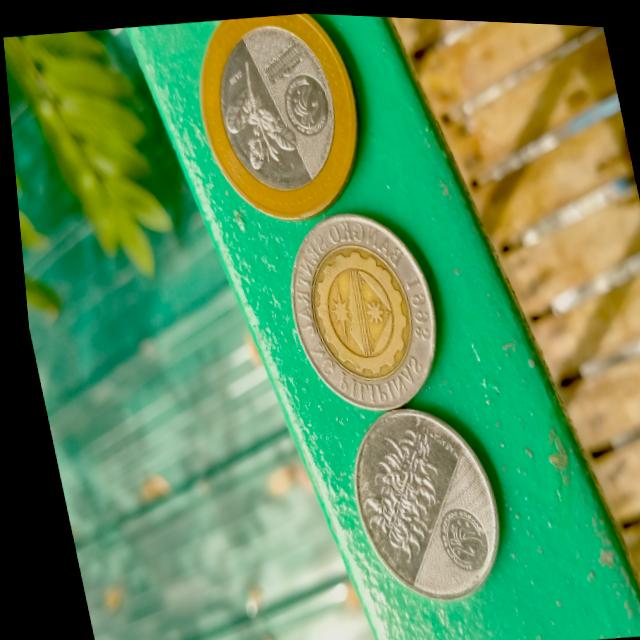10_Old_Back: (268, 202, 448, 418)
20_New_Back: (206, 58, 303, 181)
5_New_Back: (336, 411, 449, 568)
